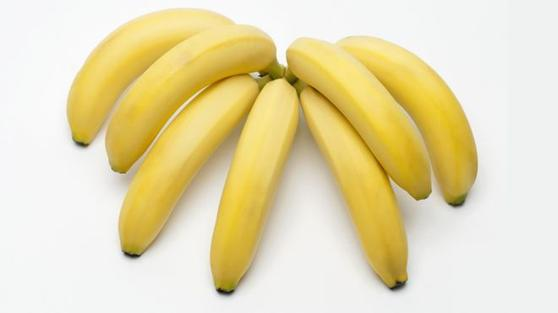banana: (199, 51, 304, 313)
